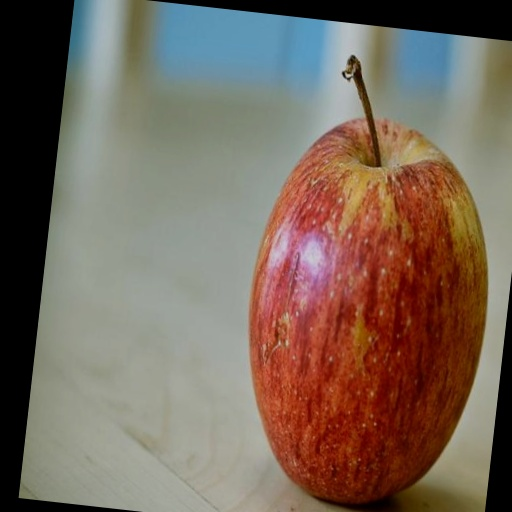fruit: (249, 120, 487, 503)
